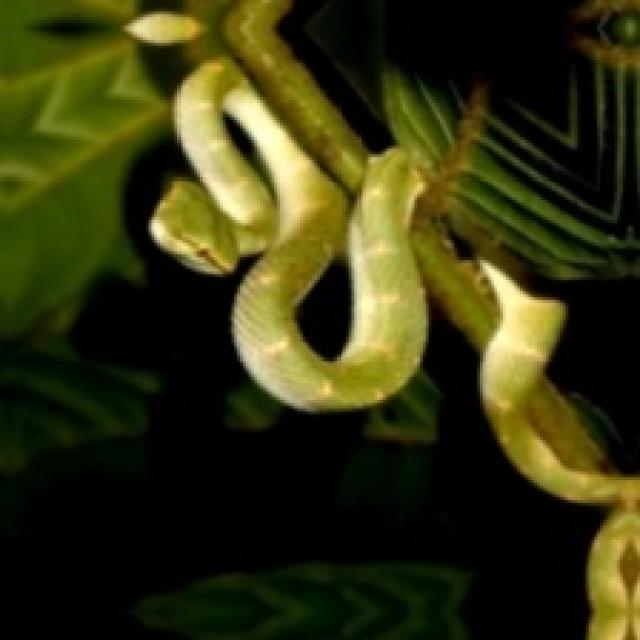north ph temple pitviper: (129, 0, 637, 637)
